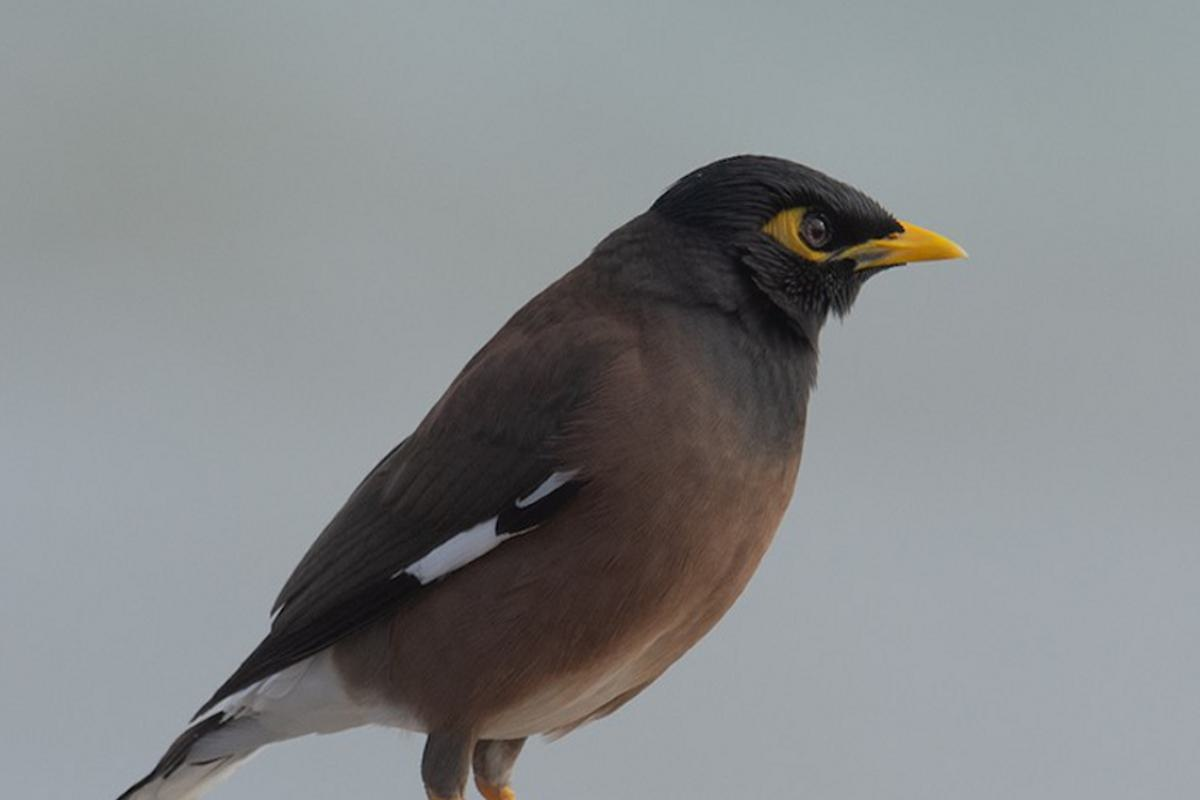myna: (186, 128, 998, 800)
